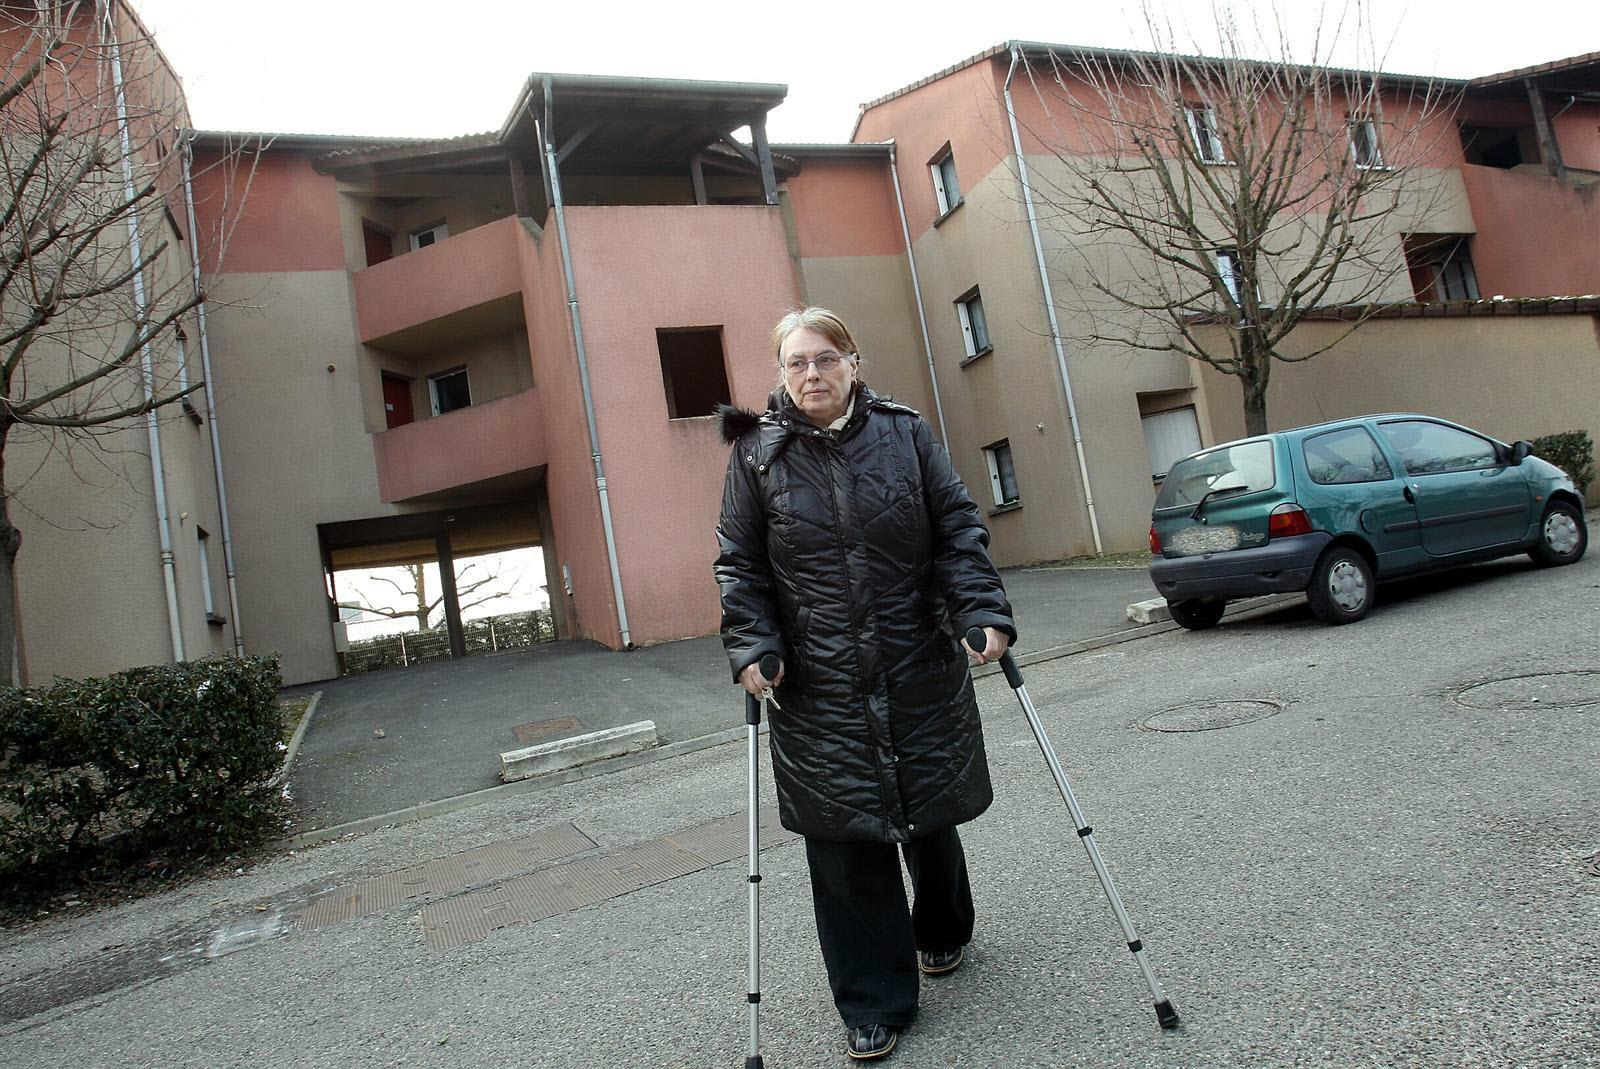crutches: (717, 291, 1187, 1069)
